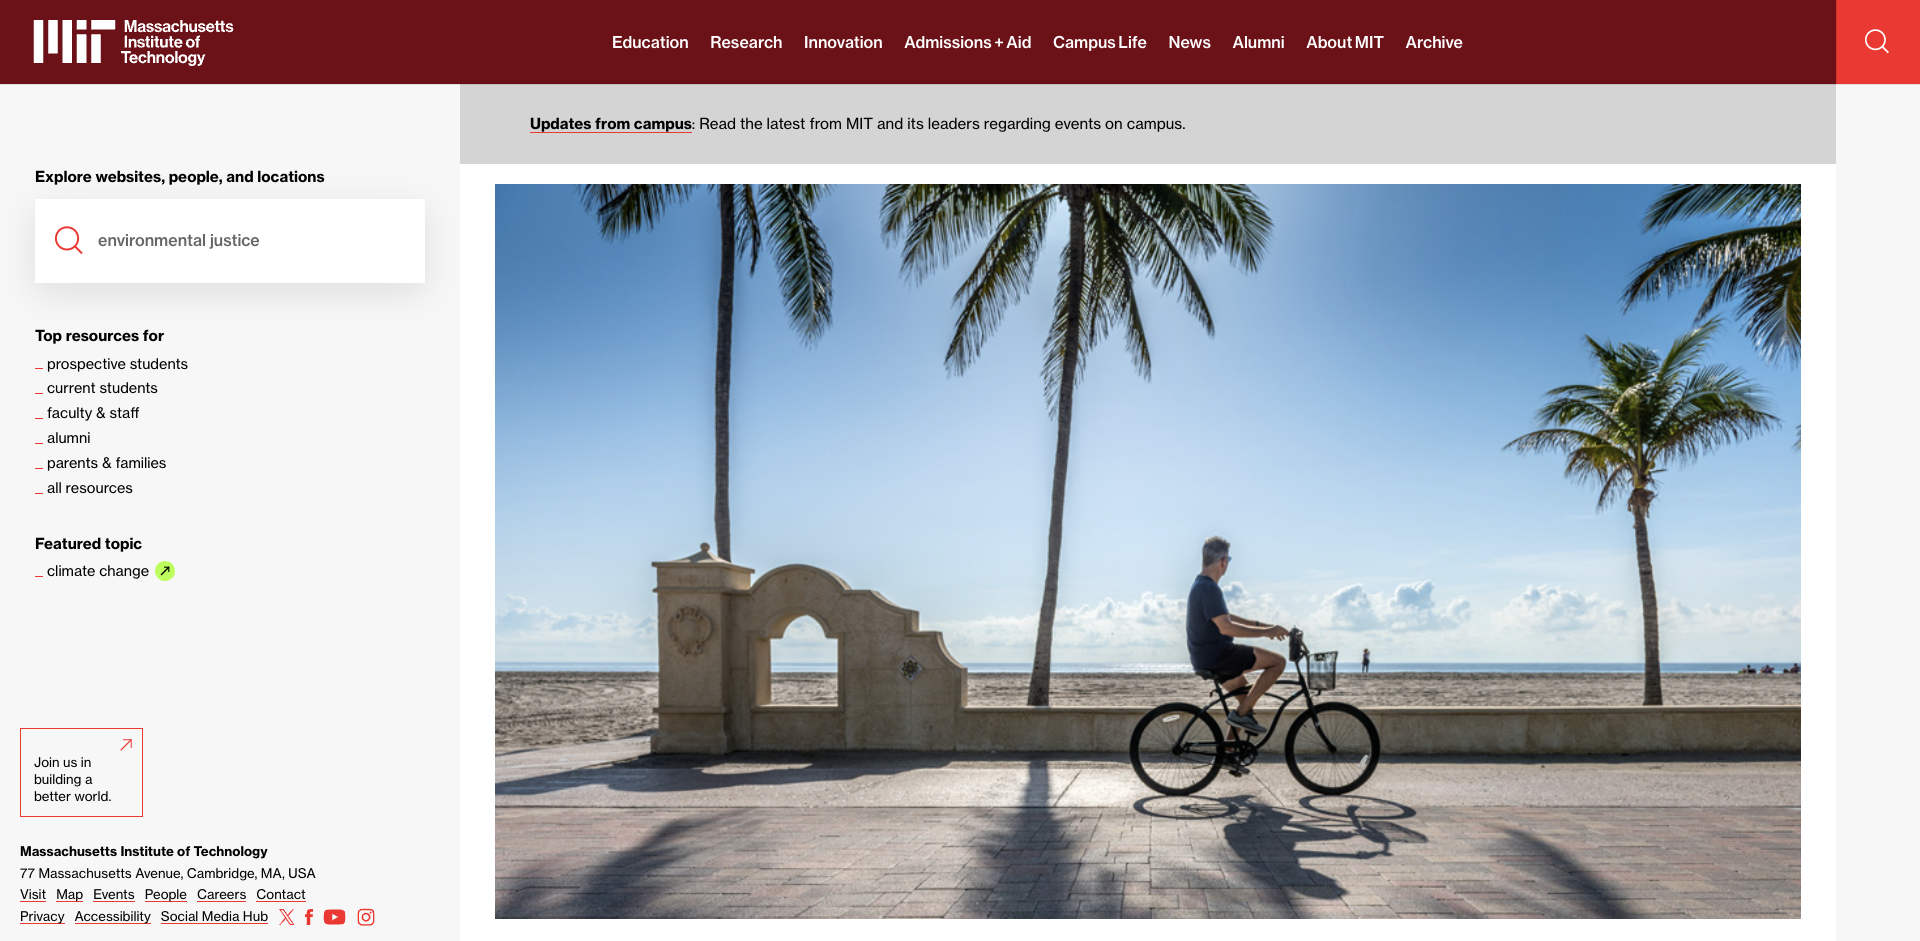button: (1836, 0, 1920, 85)
input: (36, 198, 425, 283)
label: (36, 169, 425, 195)
link: (495, 184, 1801, 919), (20, 728, 143, 816), (904, 0, 1031, 85), (24, 20, 242, 66), (1053, 0, 1147, 85), (1836, 0, 1920, 85), (20, 865, 430, 882), (804, 0, 883, 85), (1307, 0, 1384, 85), (612, 0, 688, 85), (710, 0, 782, 85), (1406, 0, 1463, 85), (1232, 0, 1284, 85), (380, 0, 432, 85), (1168, 0, 1211, 85), (530, 114, 692, 134), (47, 354, 189, 372), (47, 455, 167, 472), (47, 380, 158, 397), (47, 562, 149, 581), (160, 908, 268, 924), (47, 404, 140, 423), (47, 479, 133, 496), (75, 908, 151, 924), (47, 429, 91, 447), (256, 886, 306, 902), (197, 886, 246, 902), (20, 908, 65, 924), (144, 886, 187, 902), (93, 886, 135, 902), (20, 886, 47, 902), (56, 886, 83, 902), (323, 908, 347, 924), (525, 939, 671, 941), (356, 908, 375, 924), (278, 908, 294, 924), (305, 908, 312, 924)
menu_item: (604, 0, 697, 85), (702, 0, 791, 85)
